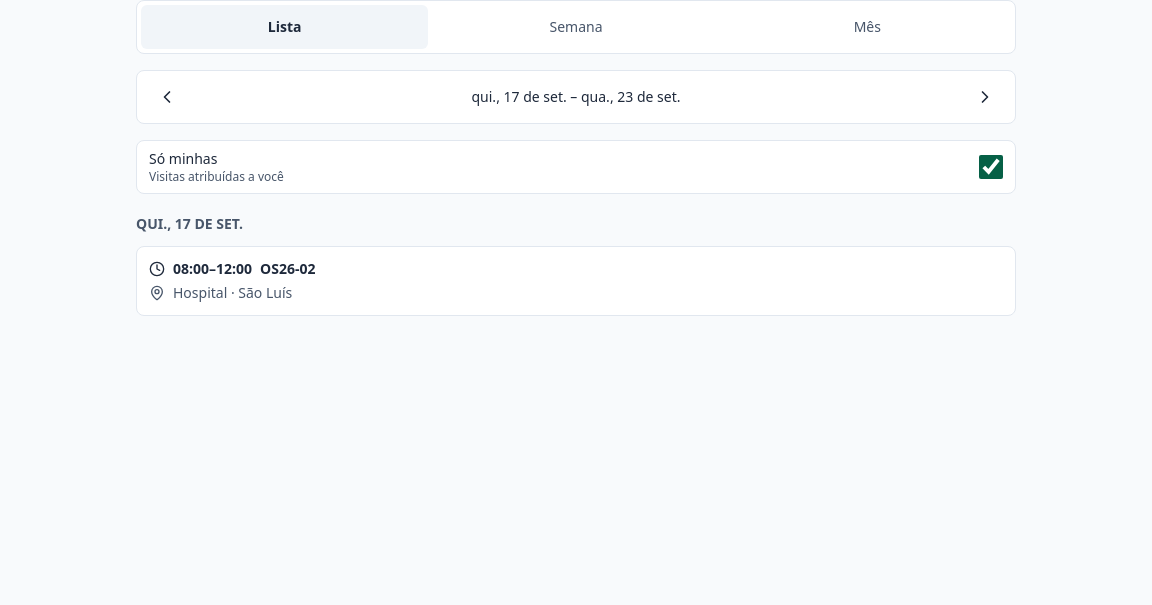
Test: Modo Mês › ▶ avança um mês de calendário: cabeçalho muda e o fetch pede a faixa da grade de outubro
Click the button "Mês" at {"x": 867, "y": 27}, box [724,5,1011,49]
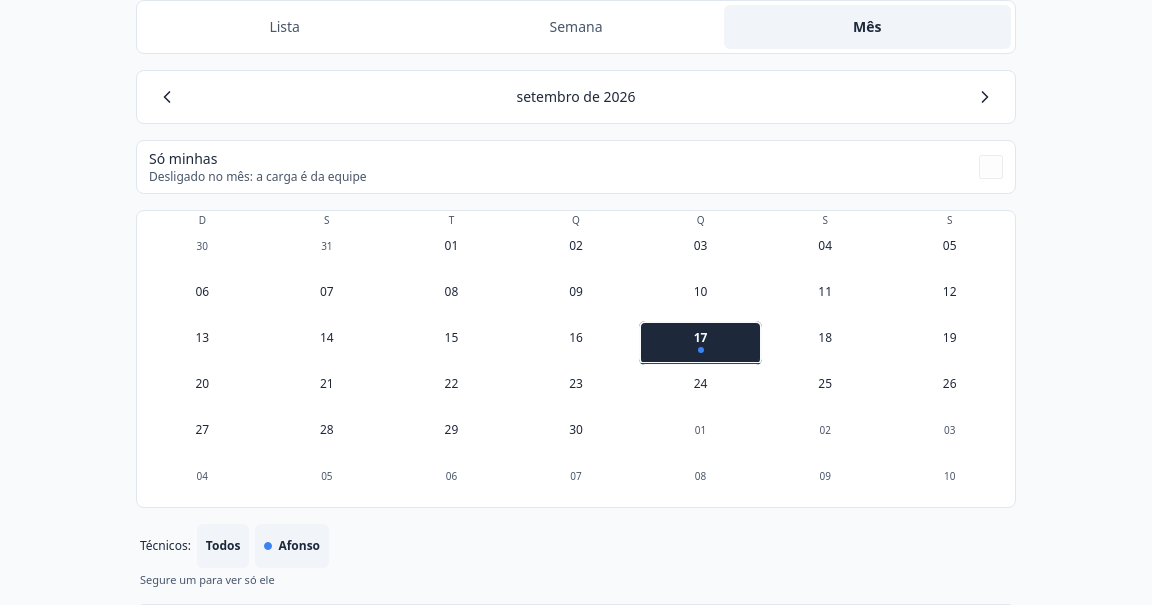
Result: the text "setembro de 2026" is shown at [516,87,636,107]
Click the button named "Próximo período" at {"x": 985, "y": 97}, box [963,75,1007,119]
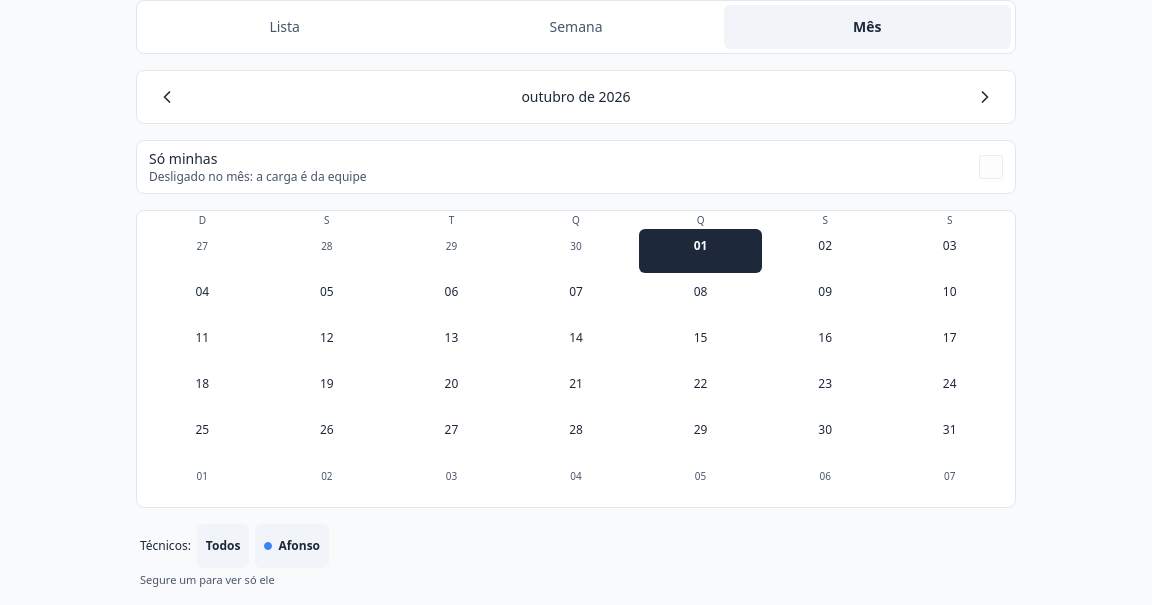
Result: the text "outubro de 2026" is shown at [521,87,631,107]
